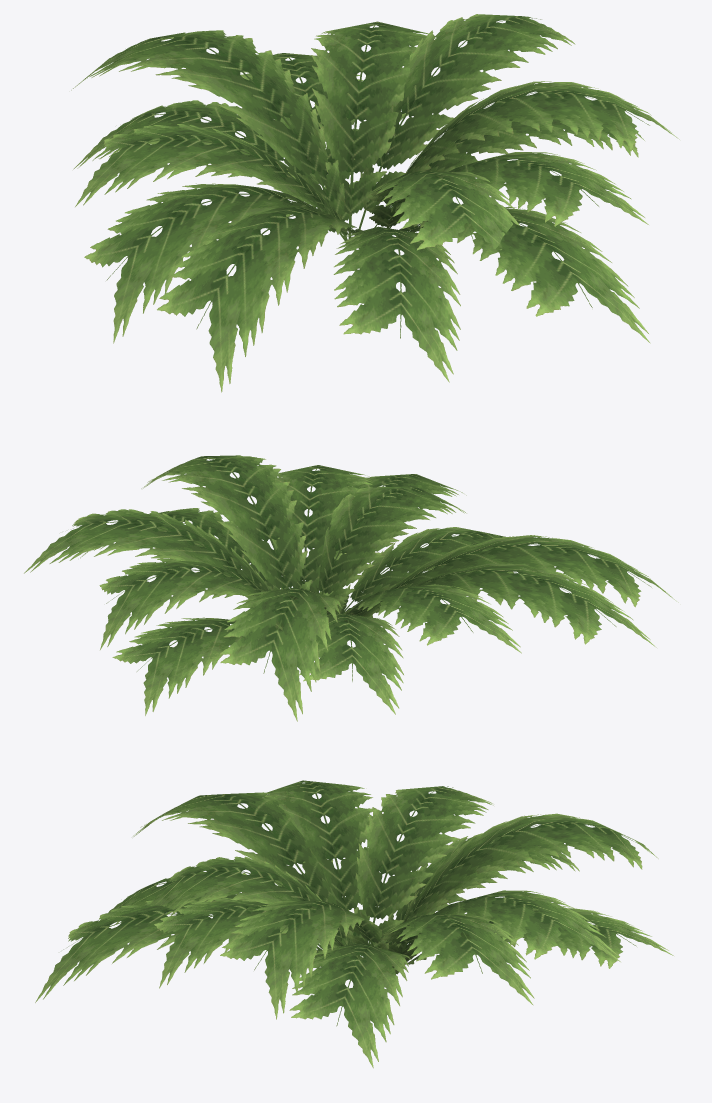
Rendered from fern_b.glb.
3 views of the same model, one above another, from view 1: azimuth 30°, elevation 25°; view 2: azimuth 150°, elevation 25°; view 3: azimuth 270°, elevation 25° (orthographic). The views are drawn at different scales.
Visible parts, largest first — view 1: leaves; view 2: leaves; view 3: leaves.
Part boxes in pixels (<box>): leaves: <box>71,14,679,392</box>; leaves: <box>24,455,678,721</box>; leaves: <box>35,780,673,1068</box>.
Size of the model in its own units: 2.28 by 0.5856 by 2.33.
1 material, 1 textured.
